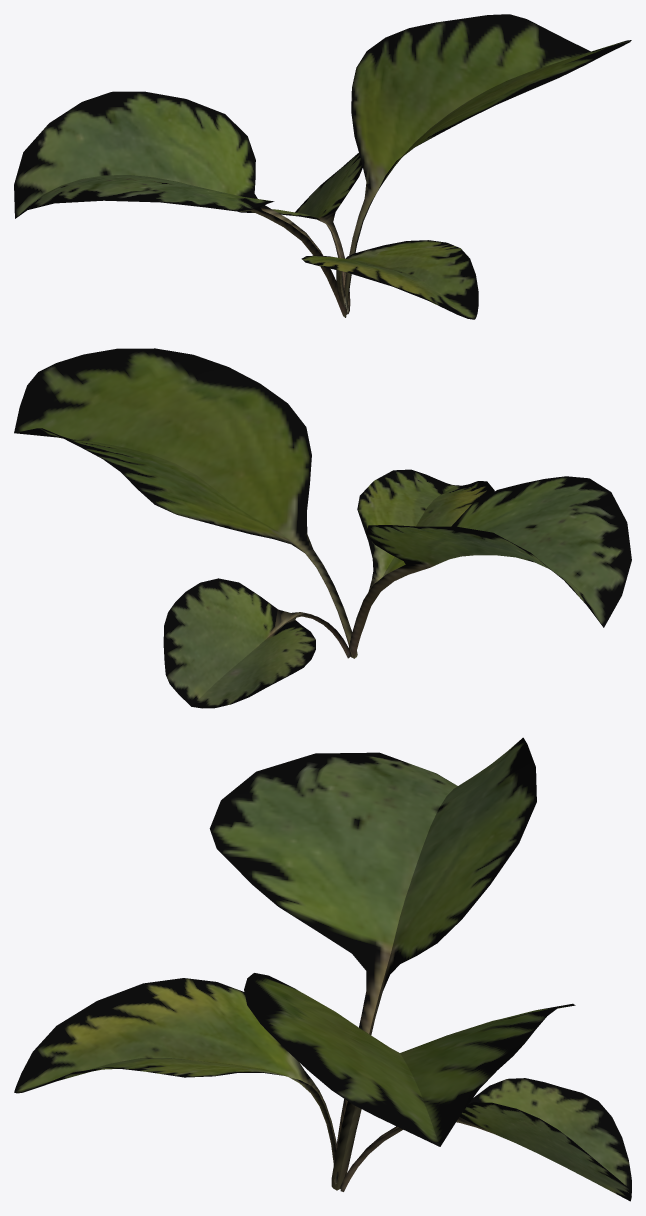
The model's file is nettle_plant_v4.glb.
3 views of the same model, one above another, from view 1: azimuth 30°, elevation 25°; view 2: azimuth 150°, elevation 25°; view 3: azimuth 270°, elevation 25° (orthographic). The views are drawn at different scales.
Parts seen in each view (by area): view 1: lod0; view 2: lod0; view 3: lod0.
Part boxes in pixels (left/top/right/bottom): lod0: left=14, top=14, right=631, bottom=319; lod0: left=14, top=348, right=631, bottom=708; lod0: left=14, top=737, right=631, bottom=1201.
Size of what is drawn, in the model's own units: 0.0597 by 0.0217 by 0.0385.
Materials: 1 (1 with a texture image).
